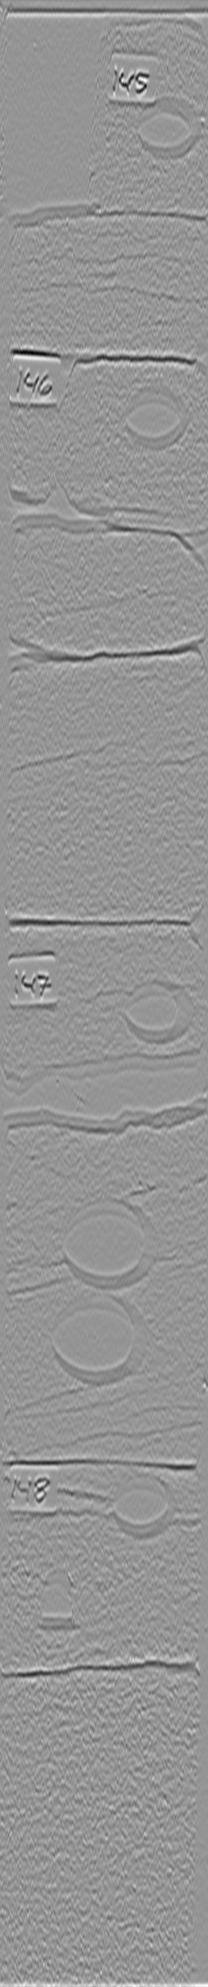hplug: (103, 1465, 186, 1545), (127, 87, 208, 165), (115, 380, 197, 457), (119, 974, 203, 1049)
scal: (41, 1296, 160, 1391), (55, 1198, 162, 1294)
vplug: (1, 9, 113, 234), (22, 337, 112, 520), (23, 919, 101, 1082)
